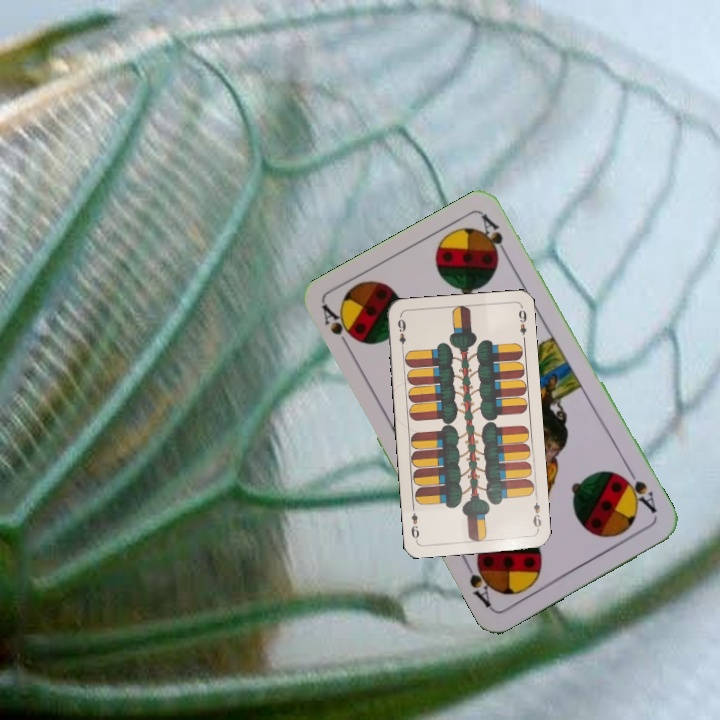E9: (393, 313, 408, 354), (529, 492, 544, 533)
SA: (616, 464, 660, 517), (318, 301, 359, 355)
